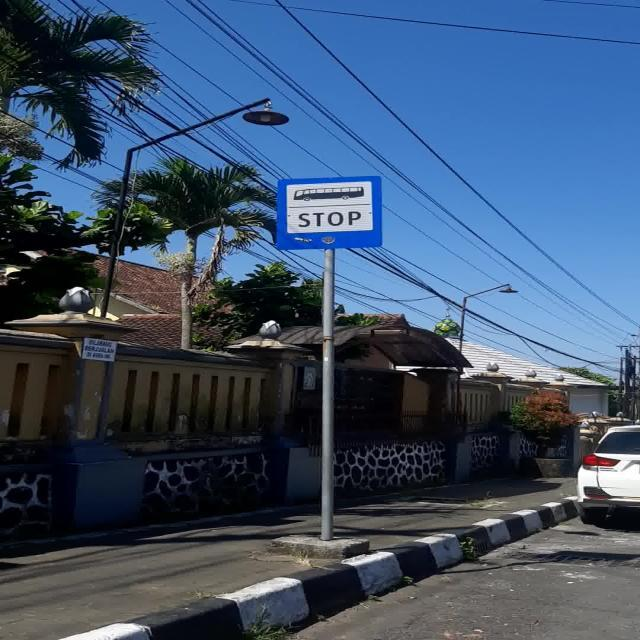Pemberhentian Bus: (275, 176, 383, 250)
